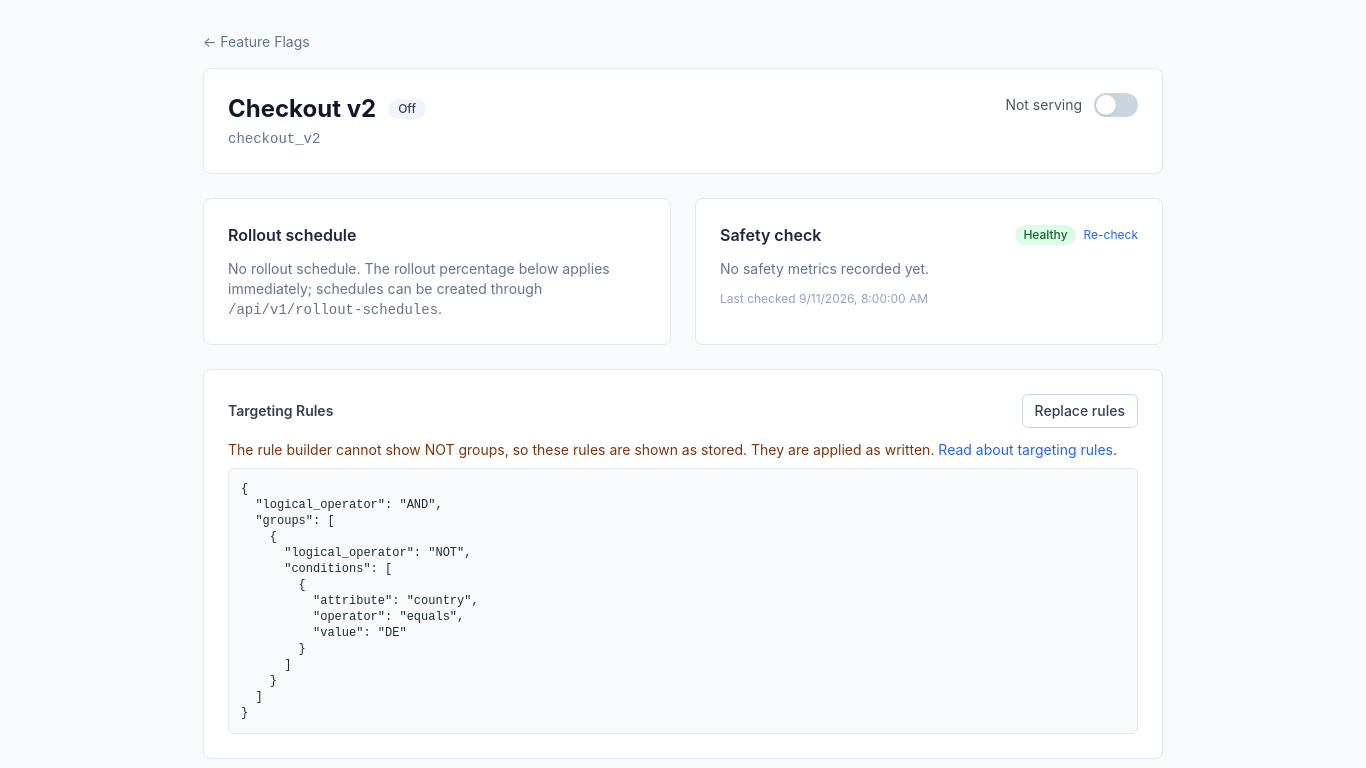
Test: NOT groups (#918) › replace, confirm, leave empty, save: a NOT rule is replaced only through the confirmed path
Click the button "Replace rules". click: (1080,411)
box: [1022, 394, 1138, 428]
(page scrolled)
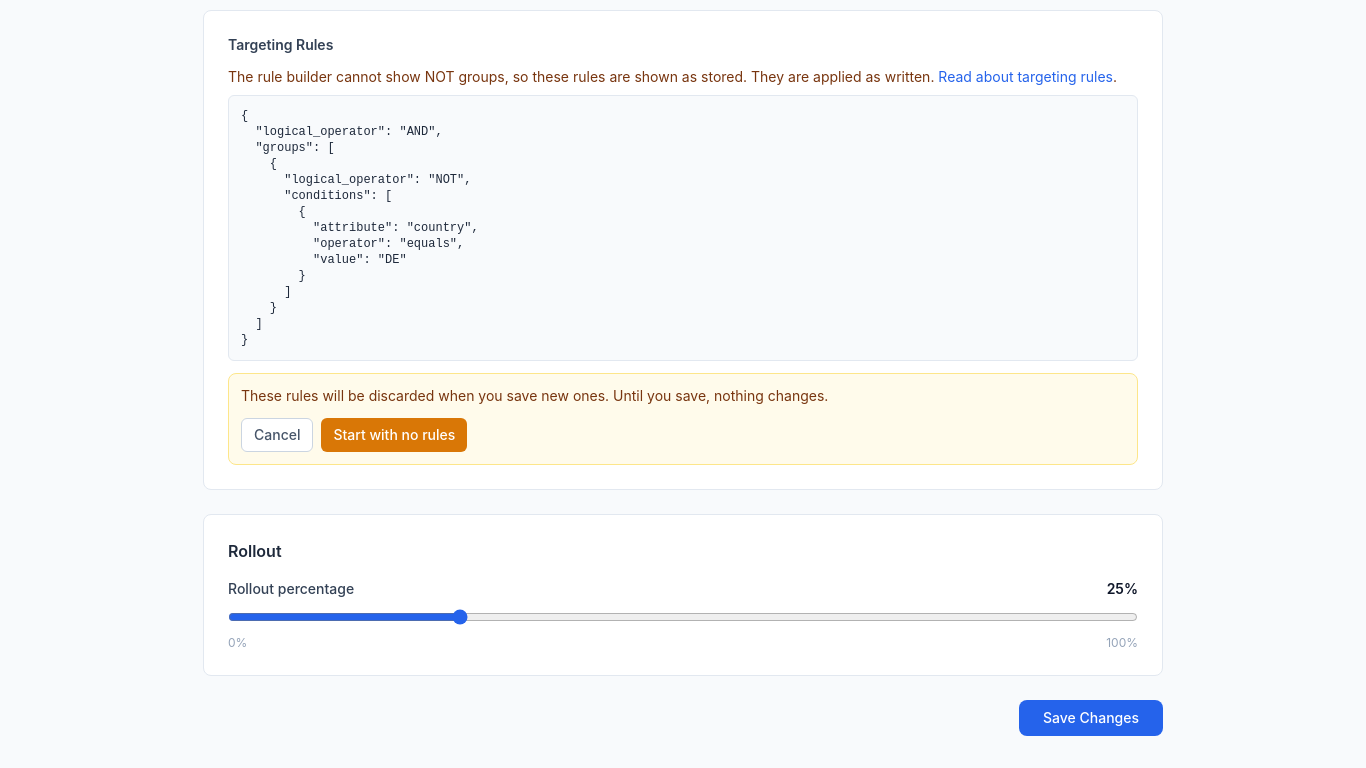
Now the dialog named "Replace rules" is shown, box [228, 373, 1138, 465]
Click the button "Start with no rules". click: (394,435)
box: [322, 418, 467, 452]
(page scrolled)
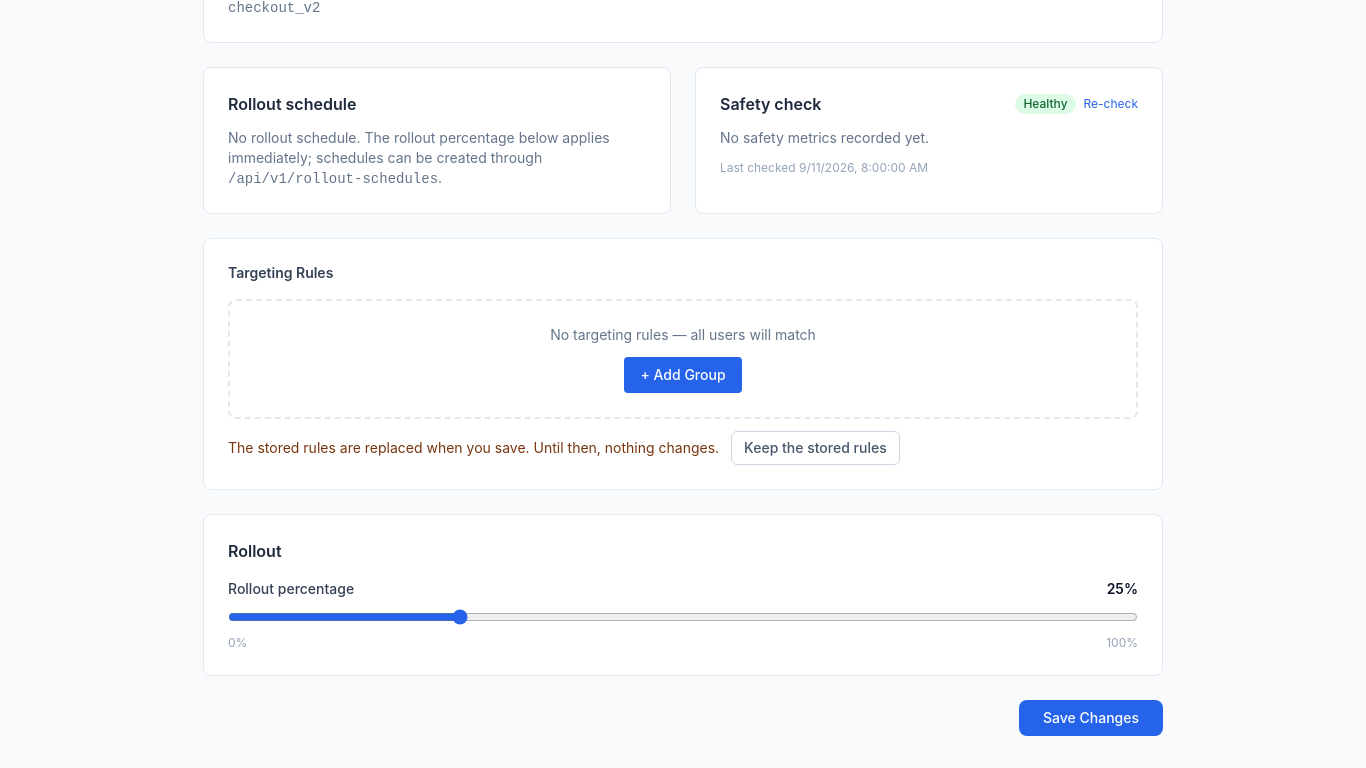
Click the button with test id "save-flag". click: (1091,718)
box: [1019, 700, 1163, 736]
(page scrolled)
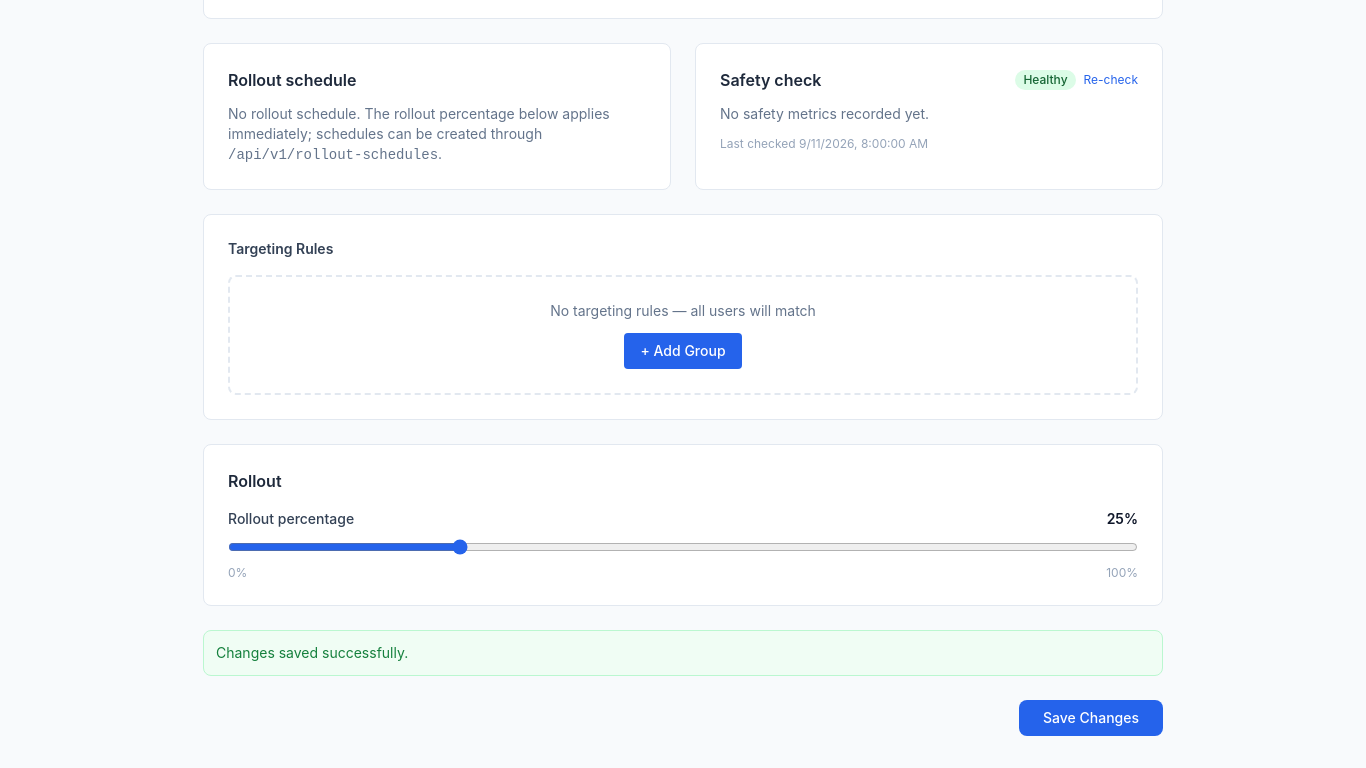
Now the message "Changes saved successfully." is shown, box [203, 630, 1163, 676]
